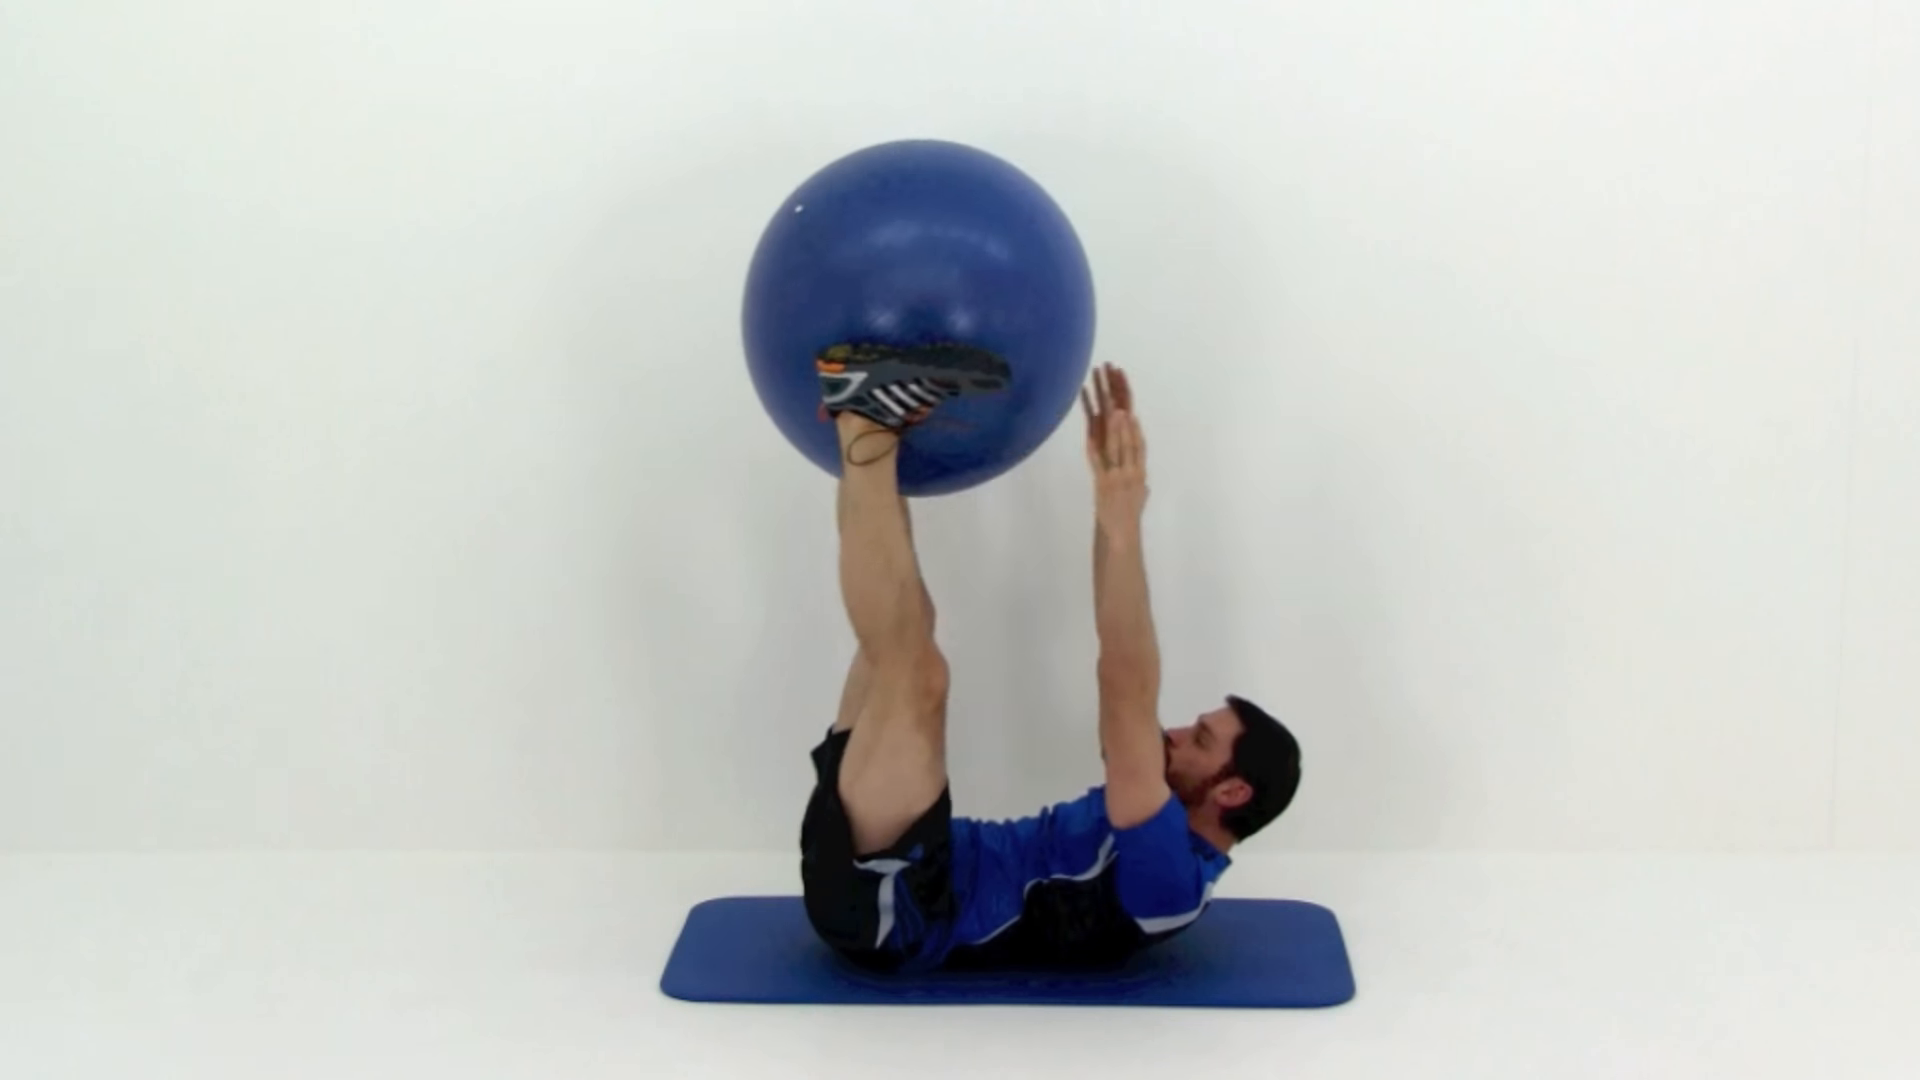yogaball: (733, 123, 1112, 508)
